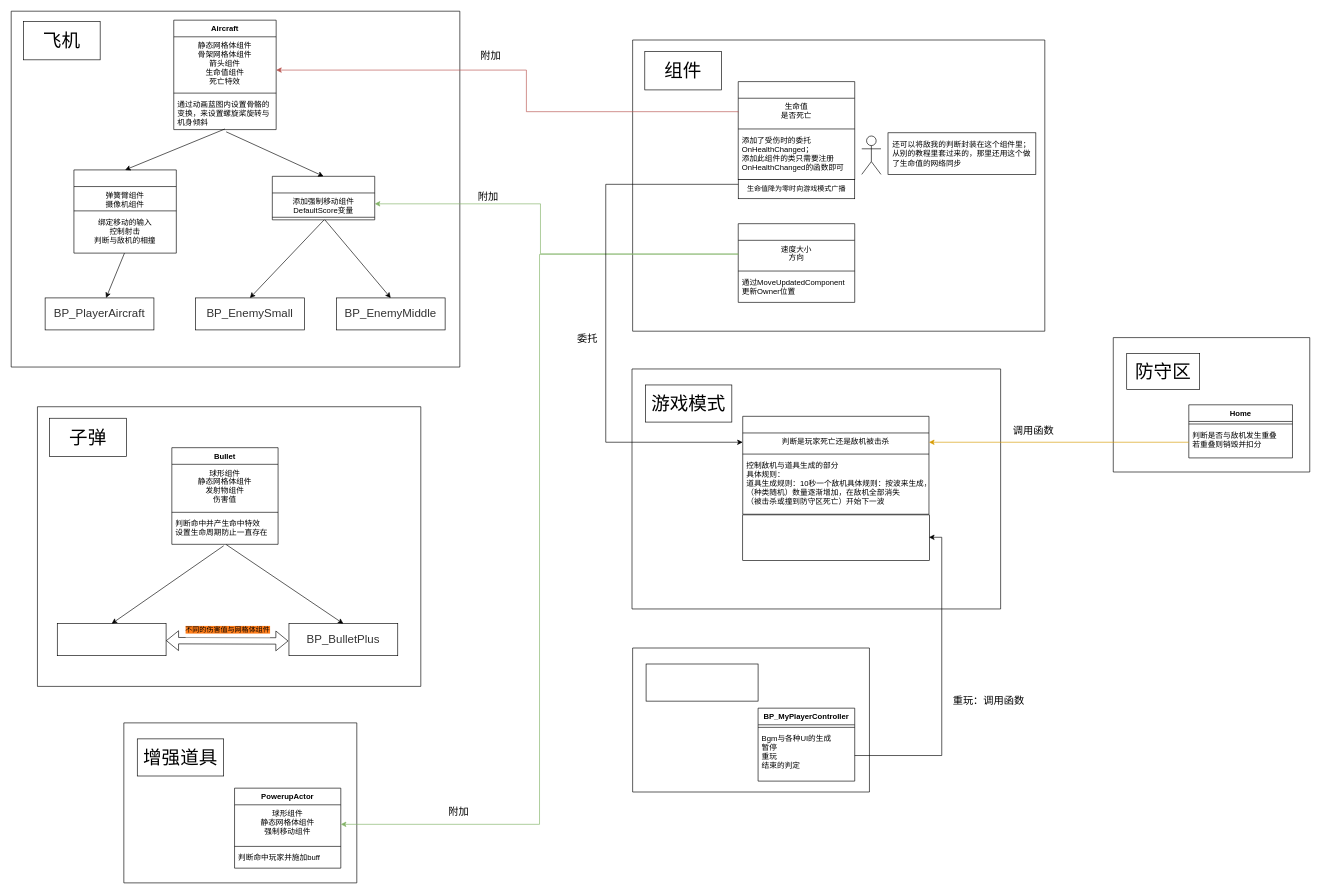
Image size: 1321x894. Some labels were removed from this diagram. The shapes that lost their labels are listed below. From the top down, each one's box as (x1, y1, x2, y2) in pixels, then its label:
(738, 81, 855, 180): HealthComponent
(73, 169, 176, 253): PlayerAircraft
(272, 176, 375, 220): EnemyAircraft
(738, 223, 855, 302): ForceMoveComponent
(742, 416, 929, 514): WarGameMode
(742, 514, 930, 560): 重玩： 函数StartGame 清除场景内所有物体与玩家数据 并控制生成玩家、敌机、道具
(57, 623, 166, 656): BP_ BulletBase
(645, 663, 758, 701): 玩家控制器
